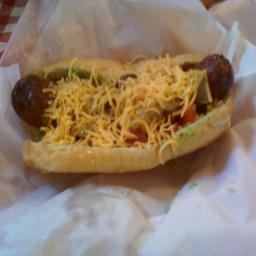hotdog: (8, 69, 238, 113), (193, 50, 231, 77)
